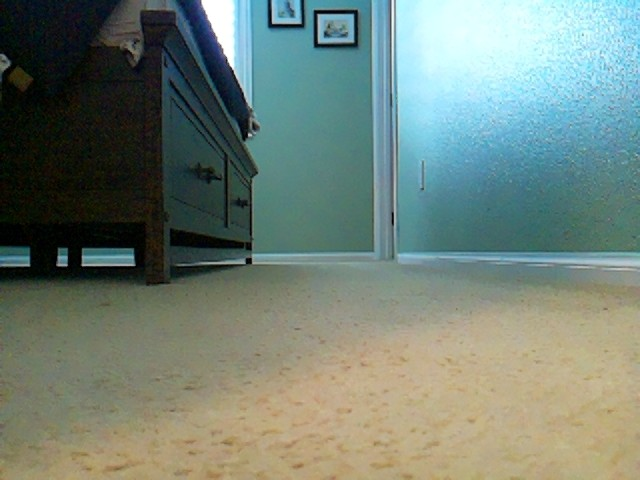Drivable Area: (2, 286, 640, 480), (257, 264, 393, 289), (393, 269, 453, 290)
Obstacle: (0, 0, 258, 282)
